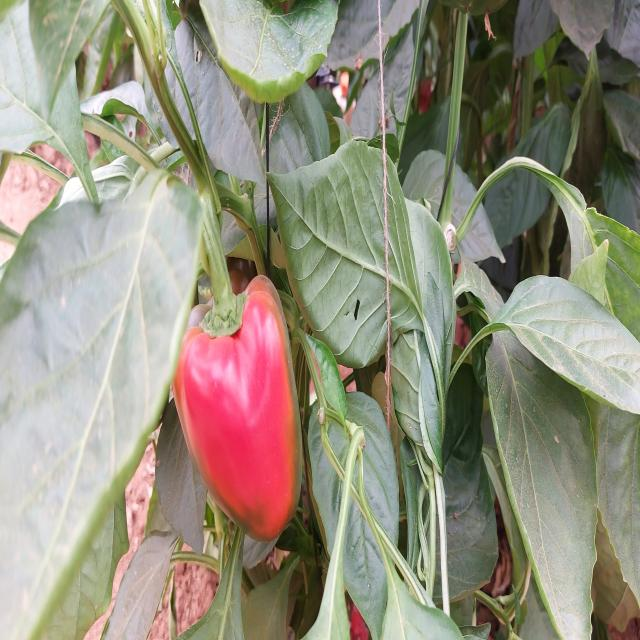Red-Ready-to-Harvest: (179, 312, 307, 550)
